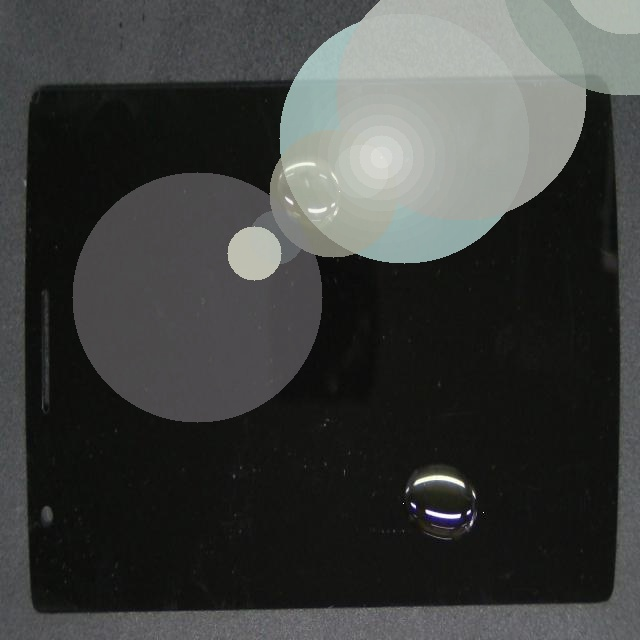oil: (236, 224, 640, 640), (153, 74, 425, 250)
